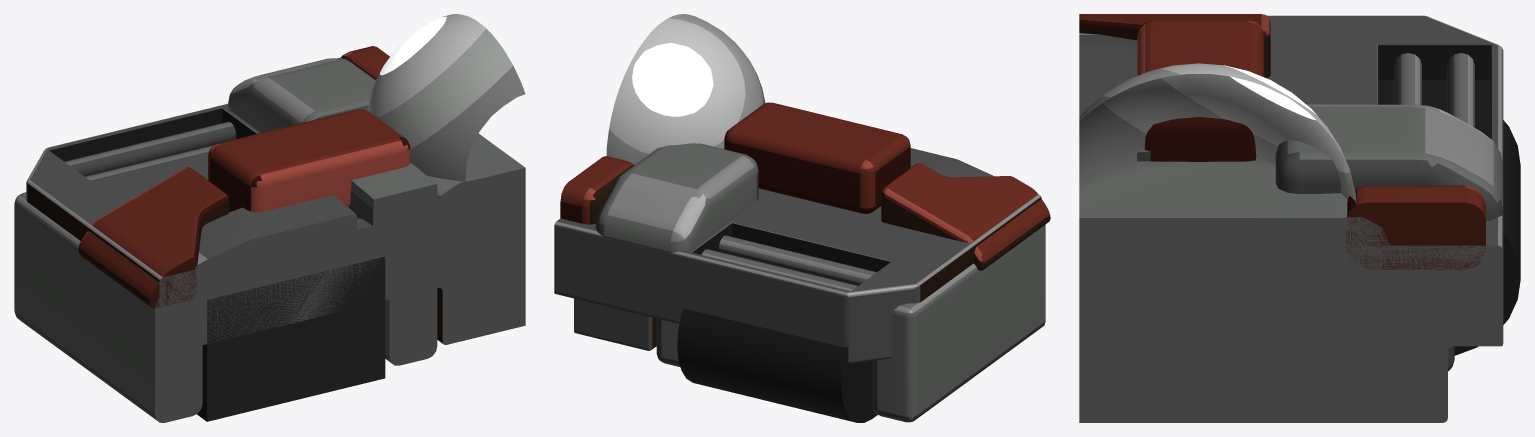
File: track_carrier_tl.glb
3 views of the same model, side by side, from view 1: azimuth 30°, elevation 25°; view 2: azimuth 150°, elevation 25°; view 3: azimuth 270°, elevation 25° (orthographic). The views are drawn at different scales.
Parts seen in each view (by area): view 1: track_carrier_tl; view 2: track_carrier_tl; view 3: track_carrier_tl.
Boxes of the visible parts, left/top/right/bottom form: track_carrier_tl: left=14, top=14, right=525, bottom=422; track_carrier_tl: left=554, top=14, right=1050, bottom=422; track_carrier_tl: left=1079, top=14, right=1520, bottom=422.
Size of the model in its own units: 21.3 by 15.56 by 16.7.
